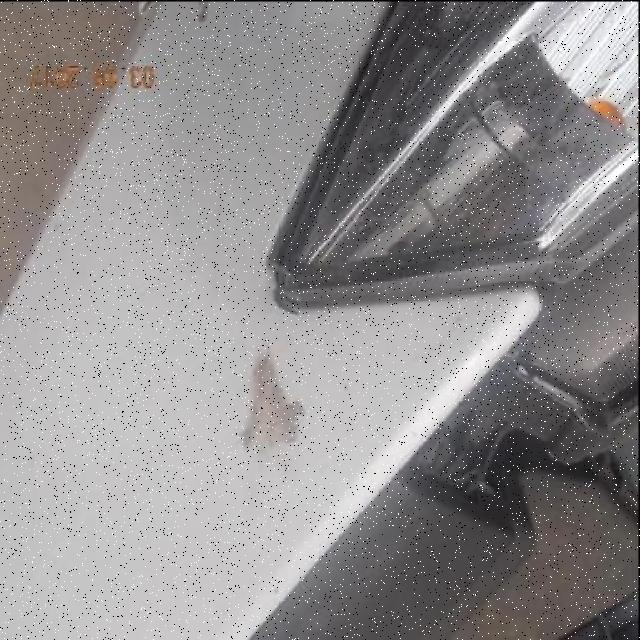damage: (239, 348, 306, 454)
